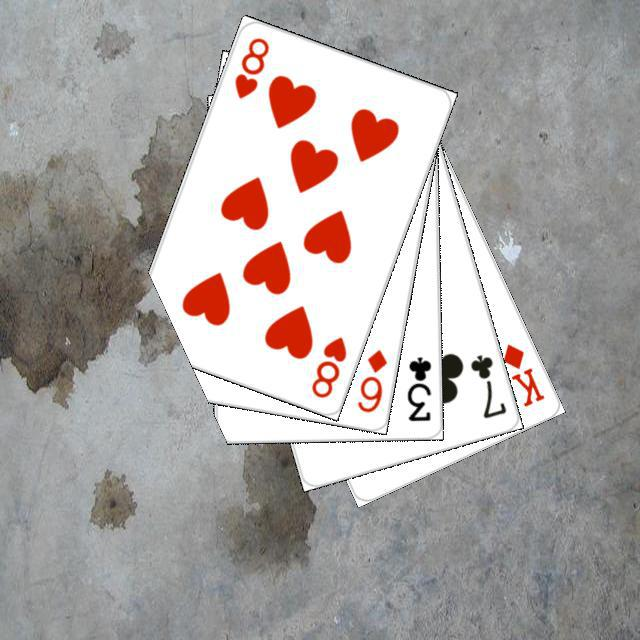3c: (402, 351, 433, 423)
6d: (352, 344, 389, 415)
7c: (465, 349, 509, 421)
8h: (306, 331, 349, 400), (229, 32, 271, 101)
Kd: (497, 339, 547, 409)
